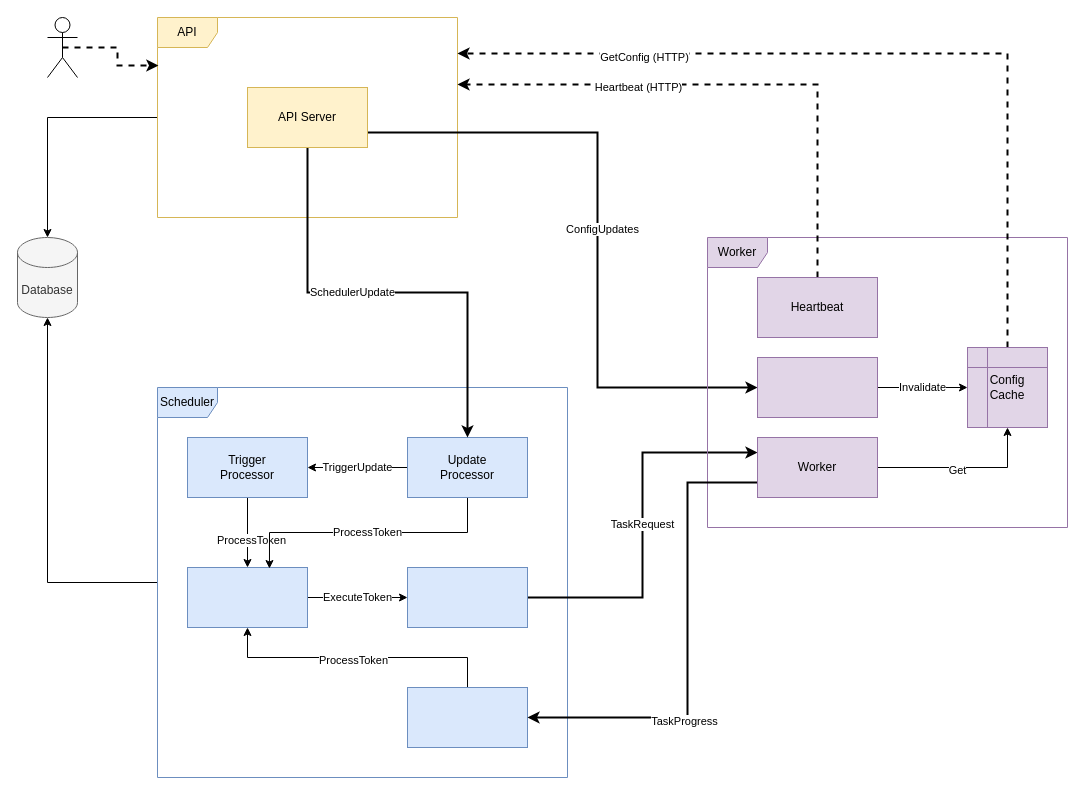
Image size: 1085x795. Some labels were removed from this diagram. The box of each missing label's shape, as (x1, y1, x2, y2) in pixels:
Execution Processor: (406, 566, 528, 628)
Progress Processor: (406, 686, 528, 748)
Token Processor: (186, 566, 308, 628)
Updates: (756, 356, 878, 418)
Users: (46, 16, 78, 78)
